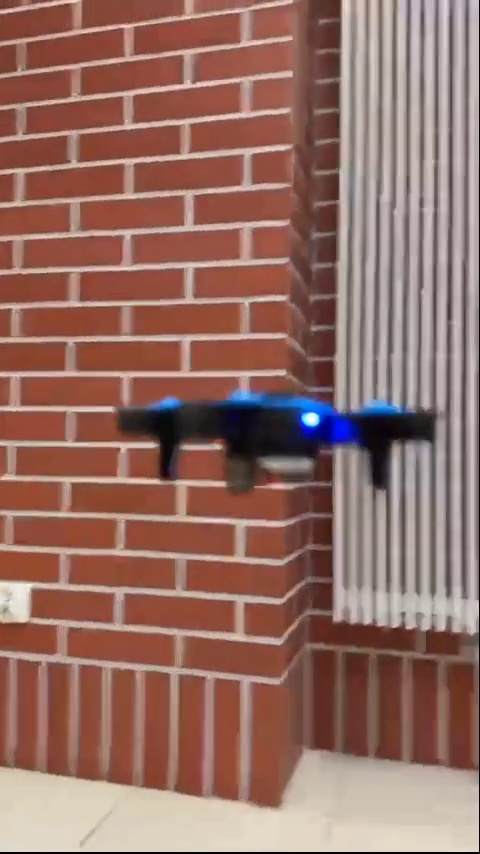drone: (114, 391, 442, 487)
